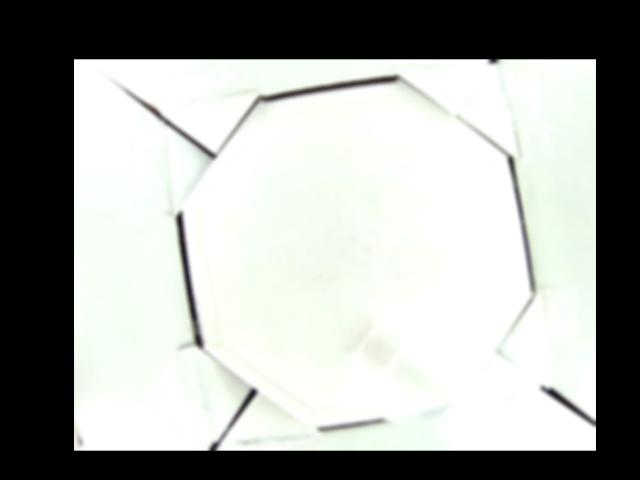Cup: (339, 302, 504, 446)
